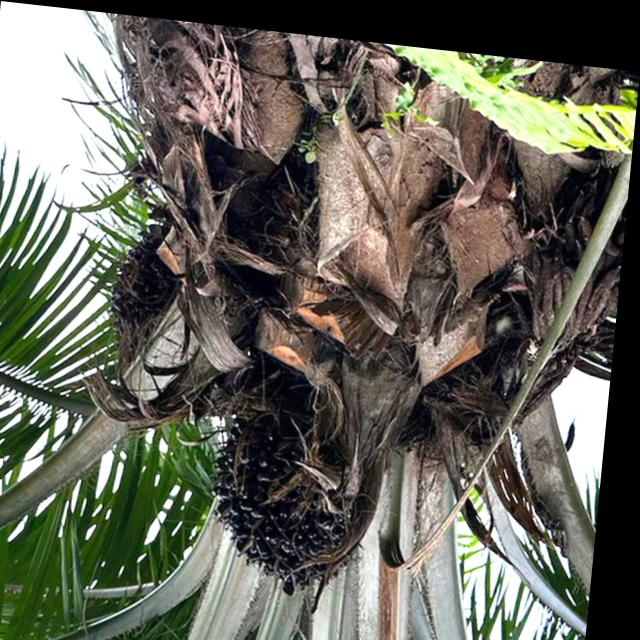unripe: (196, 375, 397, 596)
